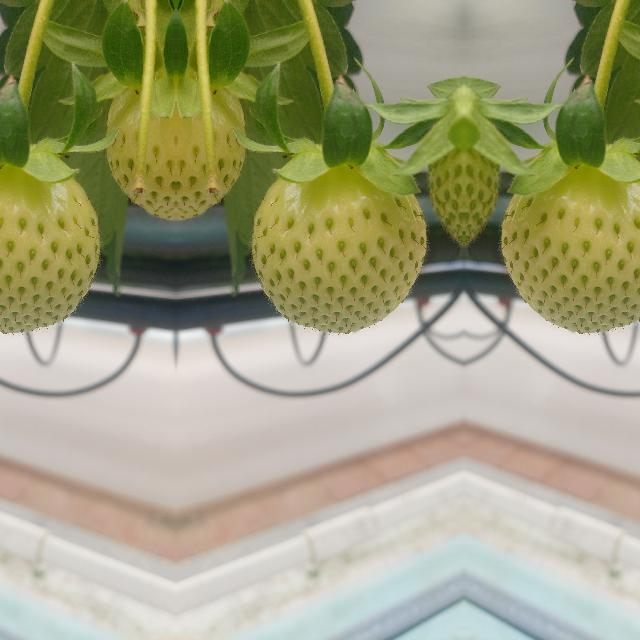Health_25: (251, 164, 425, 332), (501, 164, 640, 332), (0, 164, 99, 332)
